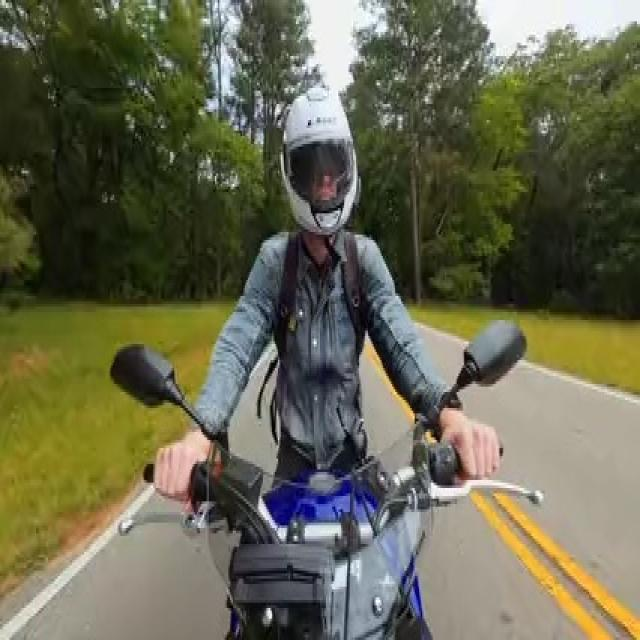Helmet_Wearer: (266, 63, 370, 234)
Person: (153, 75, 505, 512)
